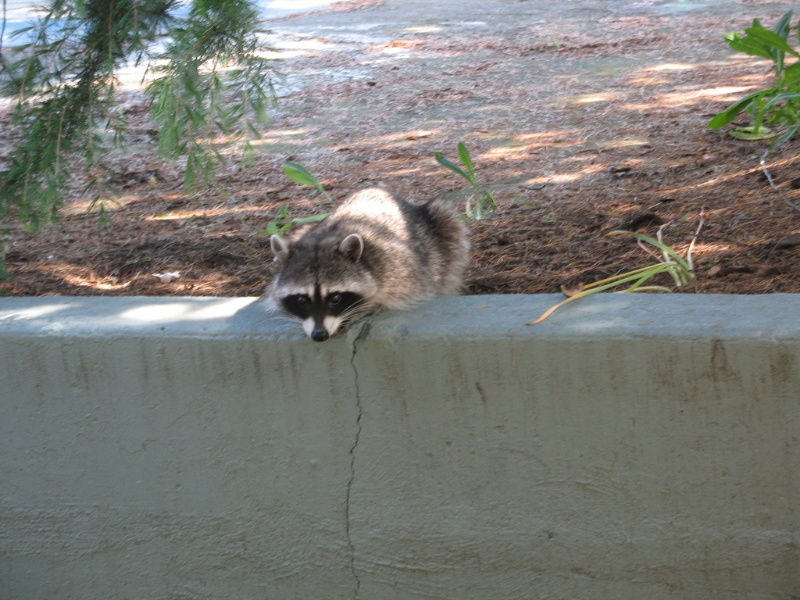raccoon: (267, 189, 472, 346)
